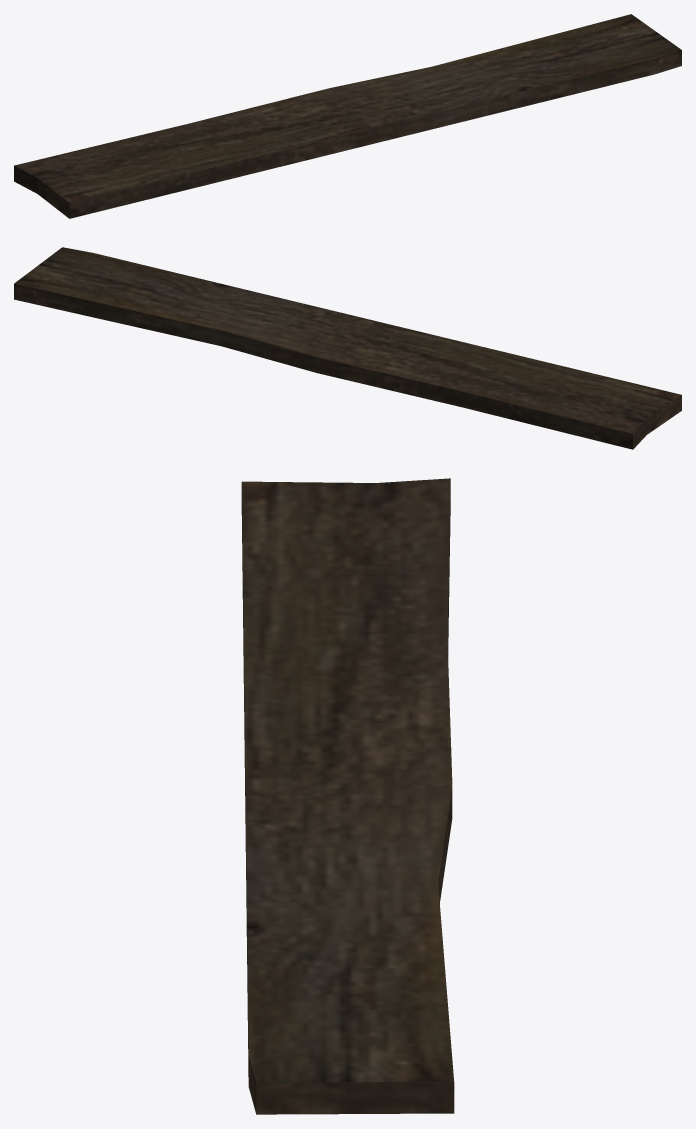
Rendered from wooden_plank_1.fbx.
3 renders of one model, top to bottom at view 1: azimuth 30°, elevation 25°; view 2: azimuth 150°, elevation 25°; view 3: azimuth 270°, elevation 25°, orthographic. The views are drawn at different scales.
Visible parts, largest first — view 1: wooden_plank_1; view 2: wooden_plank_1; view 3: wooden_plank_1.
Boxes of the visible parts, x1,y1,x2,y2 form: wooden_plank_1: [14, 14, 681, 218]; wooden_plank_1: [14, 247, 681, 449]; wooden_plank_1: [241, 478, 454, 1114].
Bounding box in the file's own units: 1.22 × 0.1816 × 0.03.
